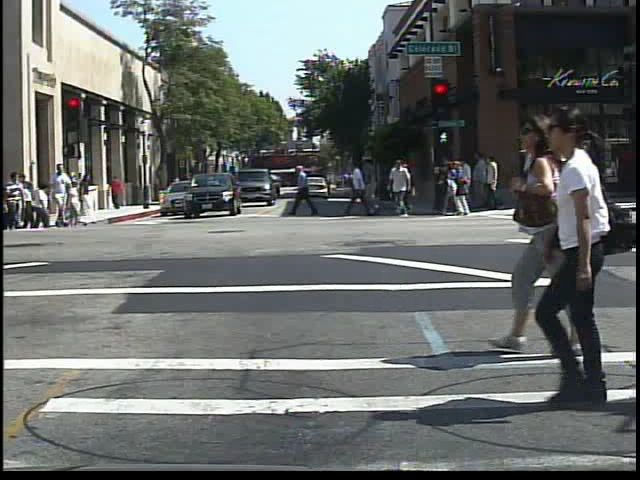person: (524, 103, 616, 410), (487, 112, 564, 353), (518, 143, 549, 210), (47, 162, 75, 230), (6, 165, 29, 232), (109, 174, 128, 212), (169, 170, 187, 200)
